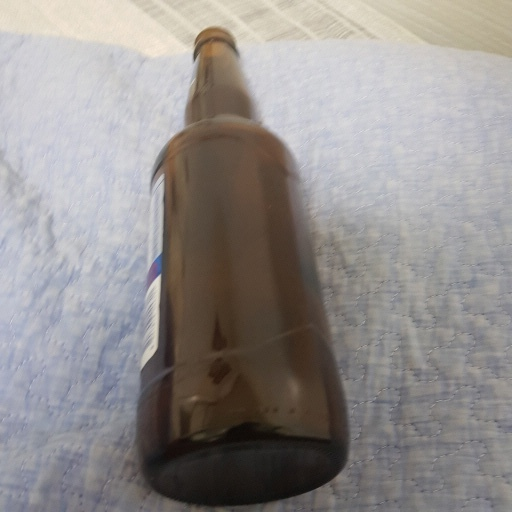Glass_1: (142, 25, 351, 503)
